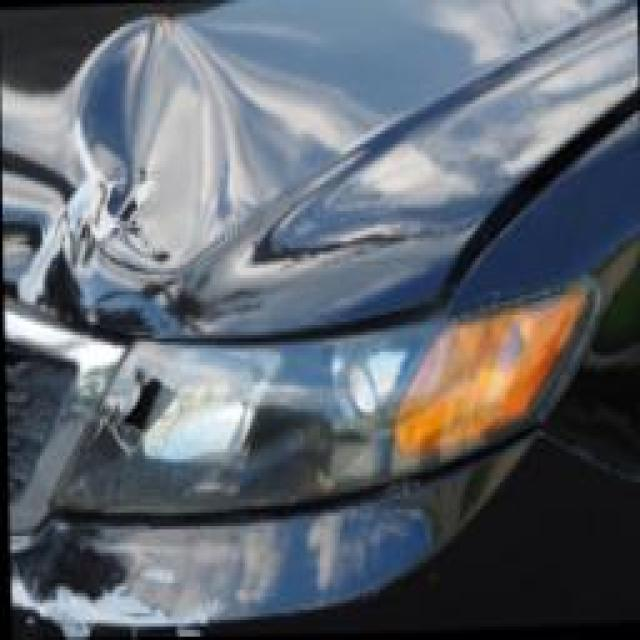Bonnet: (10, 3, 365, 337)
Bumper: (8, 529, 260, 640)
Light: (78, 342, 246, 512)
